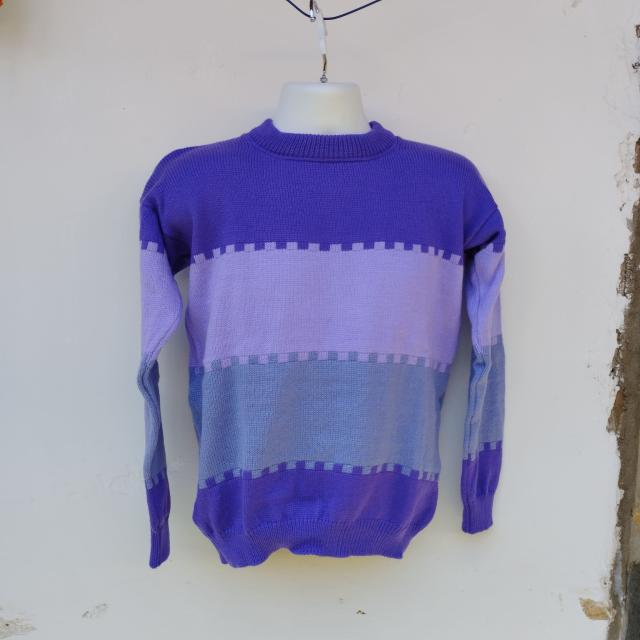Chompa: (136, 82, 507, 569)
